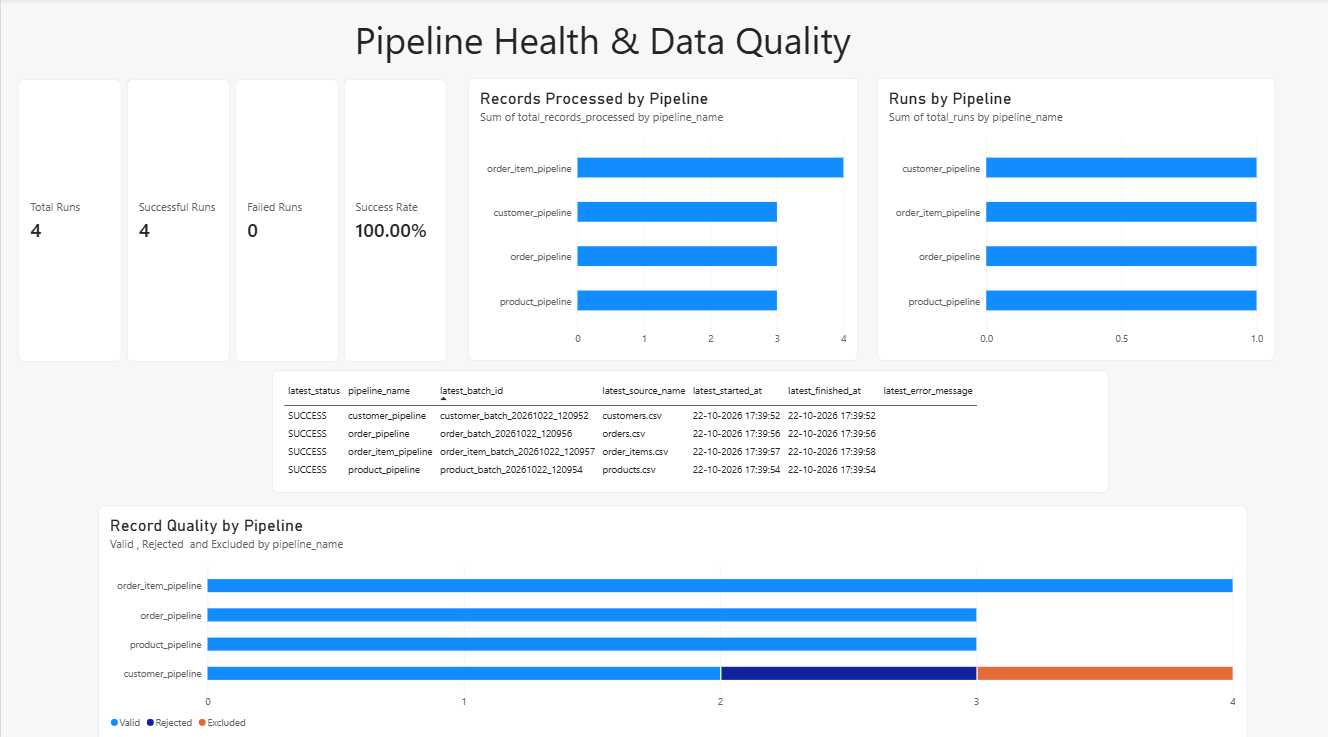

The dashboard page shown, as its layout file describes it:
{"tool":"powerbi","page":{"name":"Pipeline Health & Data Quality","canvas":[1920,1080],"ordinal":1},"visuals":[{"type":"cardVisual","fields":{"Data":["Sum(Pipeline Health.total_runs)","Sum(Pipeline Health.successful_runs)","Sum(Pipeline Health.failed_runs)","Sum(Pipeline Health.success_rate_pct)"]},"box":[24.7,117.3,623.7,409.6],"z":0},{"type":"textbox","box":[512.5,22.6,1183.5,119.4],"z":1000},{"type":"clusteredBarChart","title":"Runs by Pipeline","fields":{"Category":["Pipeline Health.pipeline_name"],"Y":["Sum(Pipeline Health.total_runs)"]},"box":[1267.9,115.3,576.3,409.6],"z":2000},{"type":"clusteredBarChart","title":"Records Processed by Pipeline","fields":{"Category":["Pipeline Health.pipeline_name"],"Y":["Sum(Pipeline Health.total_records_processed)"]},"box":[677.2,115.3,564,409.6],"z":3000},{"type":"barChart","title":"Record Quality by Pipeline","fields":{"Category":["Pipeline Health.pipeline_name"],"Y":["Sum(Pipeline Health.total_valid_records)","Sum(Pipeline Health.total_rejected_records)","Sum(Pipeline Health.total_excluded_records)"]},"box":[142,734.8,1663.1,345.8],"z":4000},{"type":"tableEx","fields":{"Values":["Pipeline Health.latest_status","Pipeline Health.pipeline_name","Pipeline Health.latest_batch_id","Pipeline Health.latest_source_name","Pipeline Health.latest_started_at","Pipeline Health.latest_finished_at","Pipeline Health.latest_error_message"]},"box":[393.1,539.3,1210.3,177],"z":4001}]}

Visuals, with their boxes in screenshot pixels (x1, y1, x2, y2), scaled from the page's 1920x1080 canvas onto the 1328x737 screenshot:
cardVisual - Sum(Pipeline Health.total_runs) x Sum(Pipeline Health.successful_runs): box=[17, 80, 448, 360]
textbox: box=[354, 15, 1173, 97]
"Runs by Pipeline" clusteredBarChart: box=[877, 79, 1276, 358]
"Records Processed by Pipeline" clusteredBarChart: box=[468, 79, 858, 358]
"Record Quality by Pipeline" barChart: box=[98, 501, 1249, 736]
tableEx - Pipeline Health.latest_status x Pipeline Health.pipeline_name: box=[272, 368, 1109, 489]
